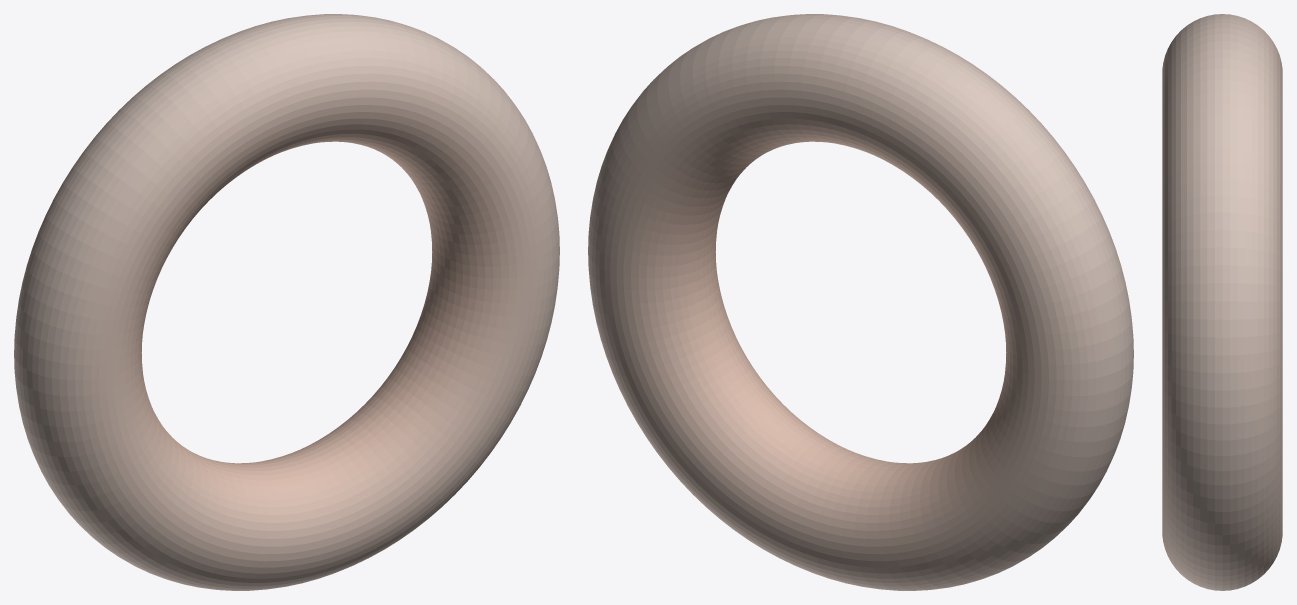
3 renders of one model, left to right at view 1: azimuth 30°, elevation 25°; view 2: azimuth 150°, elevation 25°; view 3: azimuth 270°, elevation 25°, orthographic. The views are drawn at different scales.
Visible parts, largest first — view 1: world; view 2: world; view 3: world.
Part boxes in pixels (x1,y1,x2,y2): world: [14, 14, 559, 590]; world: [588, 14, 1133, 590]; world: [1162, 14, 1282, 590].
Bounding box in the file's own units: 28.67 × 28.67 × 5.99.
